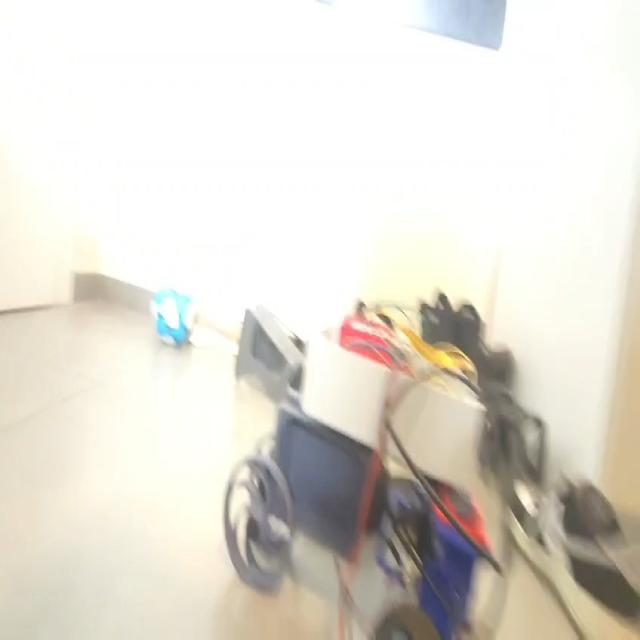Robot: (218, 273, 505, 640)
